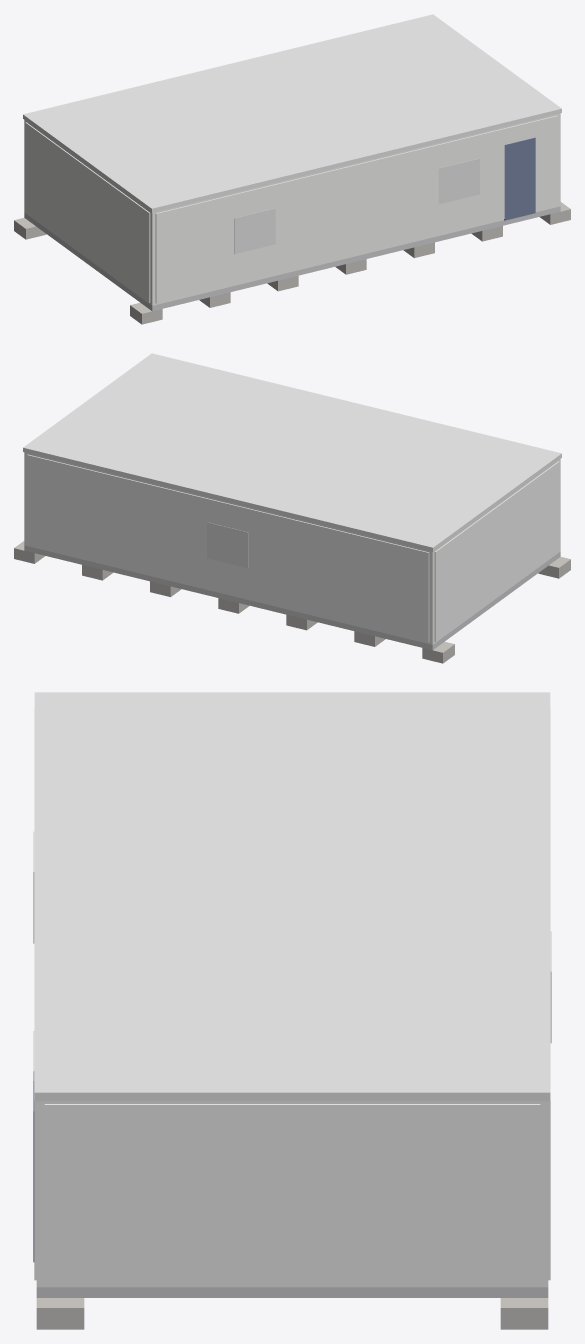
Rendered from Studio-40-Base-LOD0.glb.
3 views of the same model, one above another, from view 1: azimuth 30°, elevation 25°; view 2: azimuth 150°, elevation 25°; view 3: azimuth 270°, elevation 25° (orthographic). The views are drawn at different scales.
Visible parts, largest first — view 1: RoofMain, ExteriorPanelsStandard, BaseFrame, WindowsStandard, ExteriorShell, FoundationBlocks, EntryDoor; view 2: RoofMain, ExteriorPanelsStandard, BaseFrame, ExteriorShell, FoundationBlocks, WindowsStandard; view 3: RoofMain, ExteriorPanelsStandard, ExteriorShell, BaseFrame, FoundationBlocks.
Boxes of the visible parts, <box> form: RoofMain: <box>23,14,561,212</box>; ExteriorPanelsStandard: <box>25,115,557,303</box>; BaseFrame: <box>24,206,560,311</box>; WindowsStandard: <box>234,158,479,254</box>; ExteriorShell: <box>24,113,560,305</box>; FoundationBlocks: <box>14,202,570,324</box>; EntryDoor: <box>504,137,535,220</box>; RoofMain: <box>23,353,561,551</box>; ExteriorPanelsStandard: <box>27,454,559,642</box>; BaseFrame: <box>24,545,560,650</box>; ExteriorShell: <box>24,452,560,644</box>; FoundationBlocks: <box>14,541,570,663</box>; WindowsStandard: <box>207,522,248,568</box>; RoofMain: <box>34,692,550,1101</box>; ExteriorPanelsStandard: <box>34,709,550,1284</box>; ExteriorShell: <box>36,1101,548,1287</box>; BaseFrame: <box>36,1287,548,1297</box>; FoundationBlocks: <box>36,1298,548,1329</box>.
Size of the model in its own units: 12.49 by 3.17 by 6.53.
